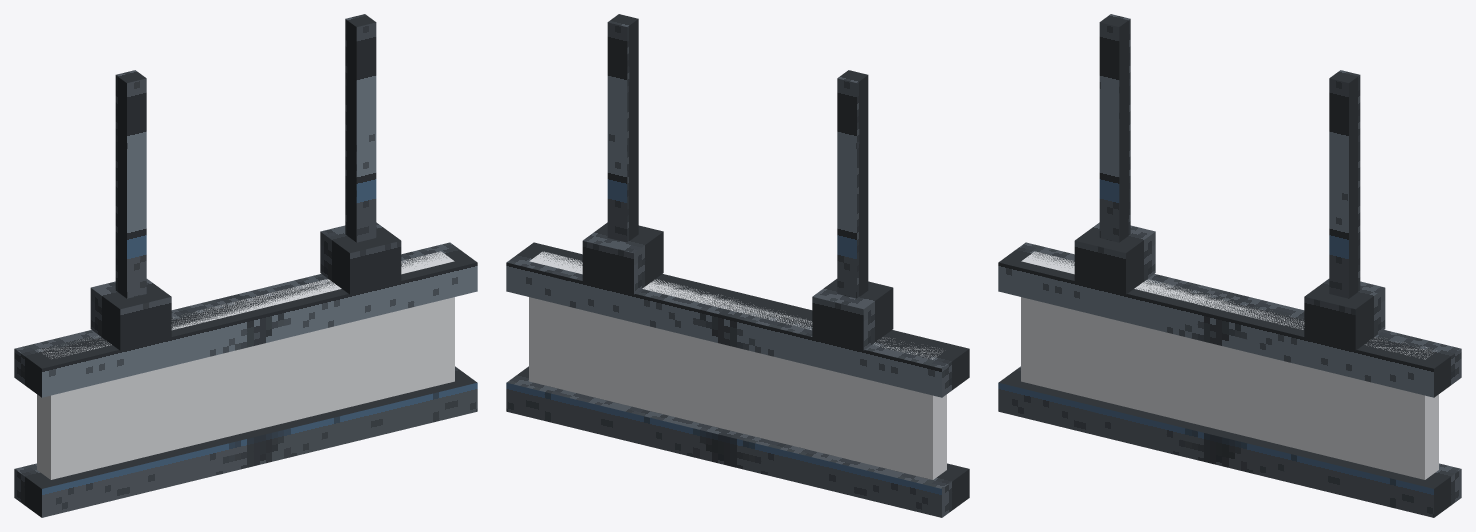
Rendered from nav_hanger.glb.
The picture shows the model from 3 angles, left to right: view 1: azimuth 30°, elevation 25°; view 2: azimuth 150°, elevation 25°; view 3: azimuth 330°, elevation 25°; orthographic projection.
Visible parts, largest first — view 1: nav_hanger; view 2: nav_hanger; view 3: nav_hanger.
Part boxes in pixels (left/top/right/bottom): nav_hanger: left=14, top=14, right=477, bottom=517; nav_hanger: left=506, top=14, right=969, bottom=517; nav_hanger: left=998, top=14, right=1461, bottom=517.
Size of the model in its own units: 1.1 by 0.98 by 0.13.
Materials: 7 (6 with a texture image).
